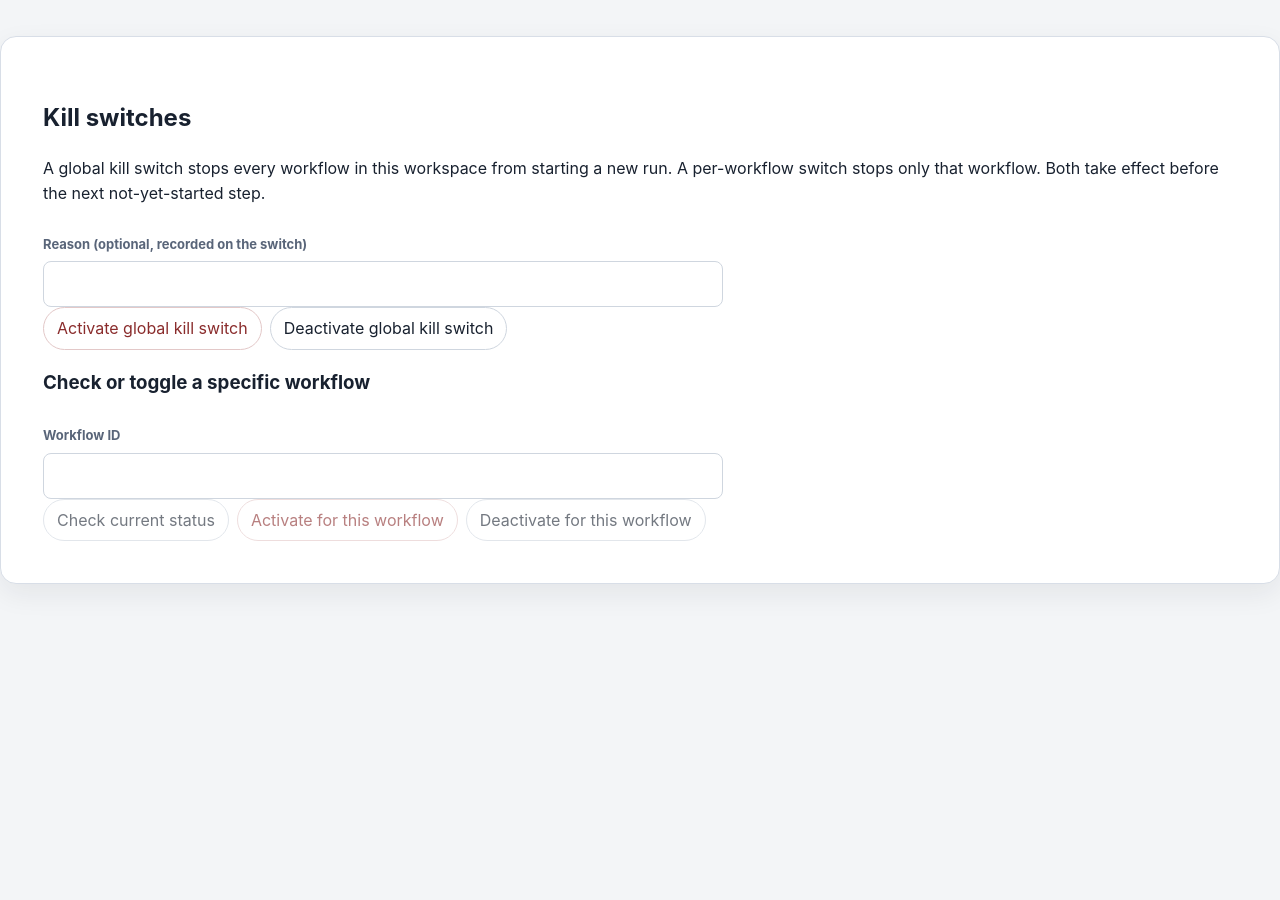
Test: KillSwitchPanel › maps a kill-switch lookup 500 to a readable sentence, not a raw backend message
This screenshot has width=1280, height=900.
Type "weekly-digest" into the field named "Workflow ID to check". click: (383,476)
box: [43,452,723,499]
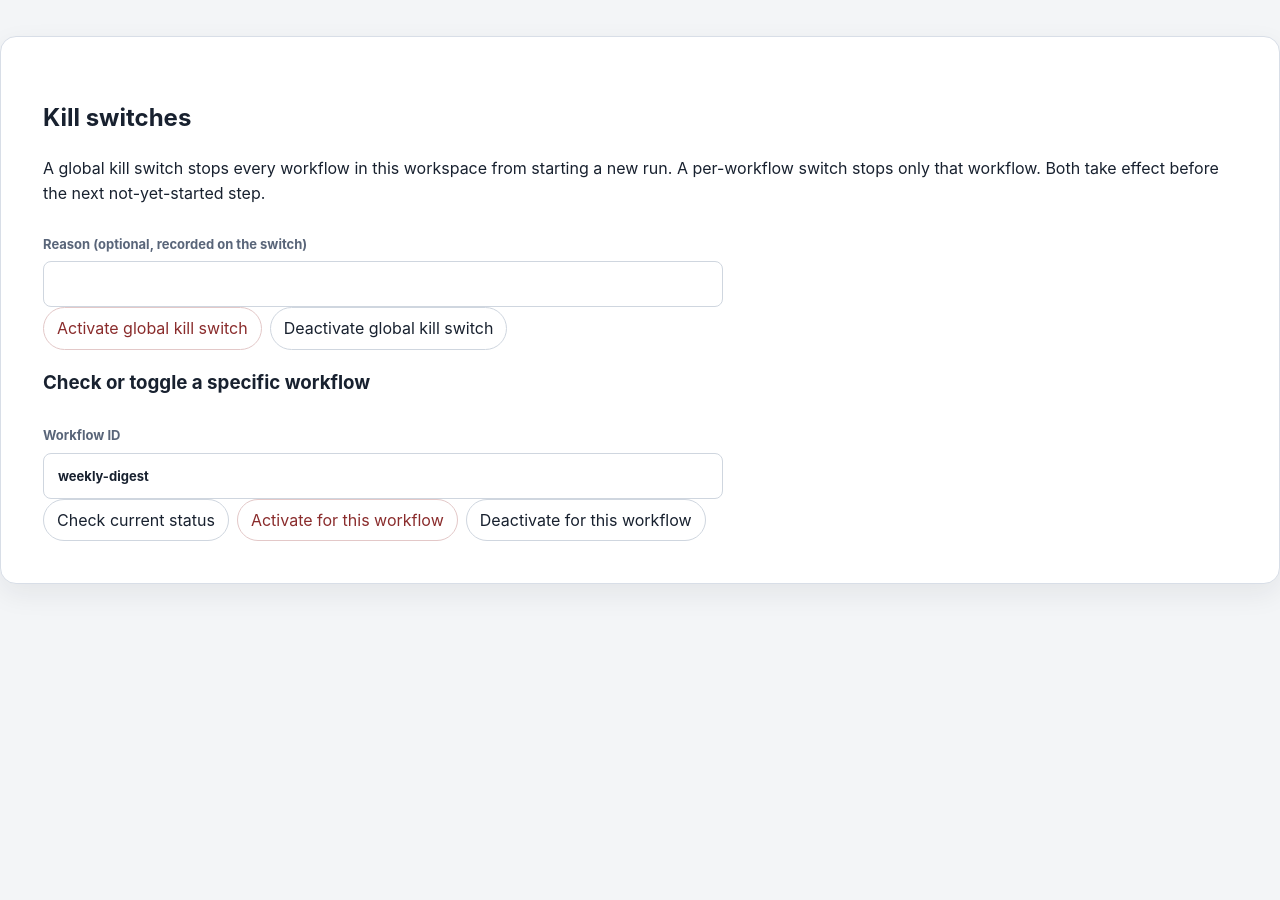
Click the button "Check current status". click: (136,520)
box: [43,499,229,542]
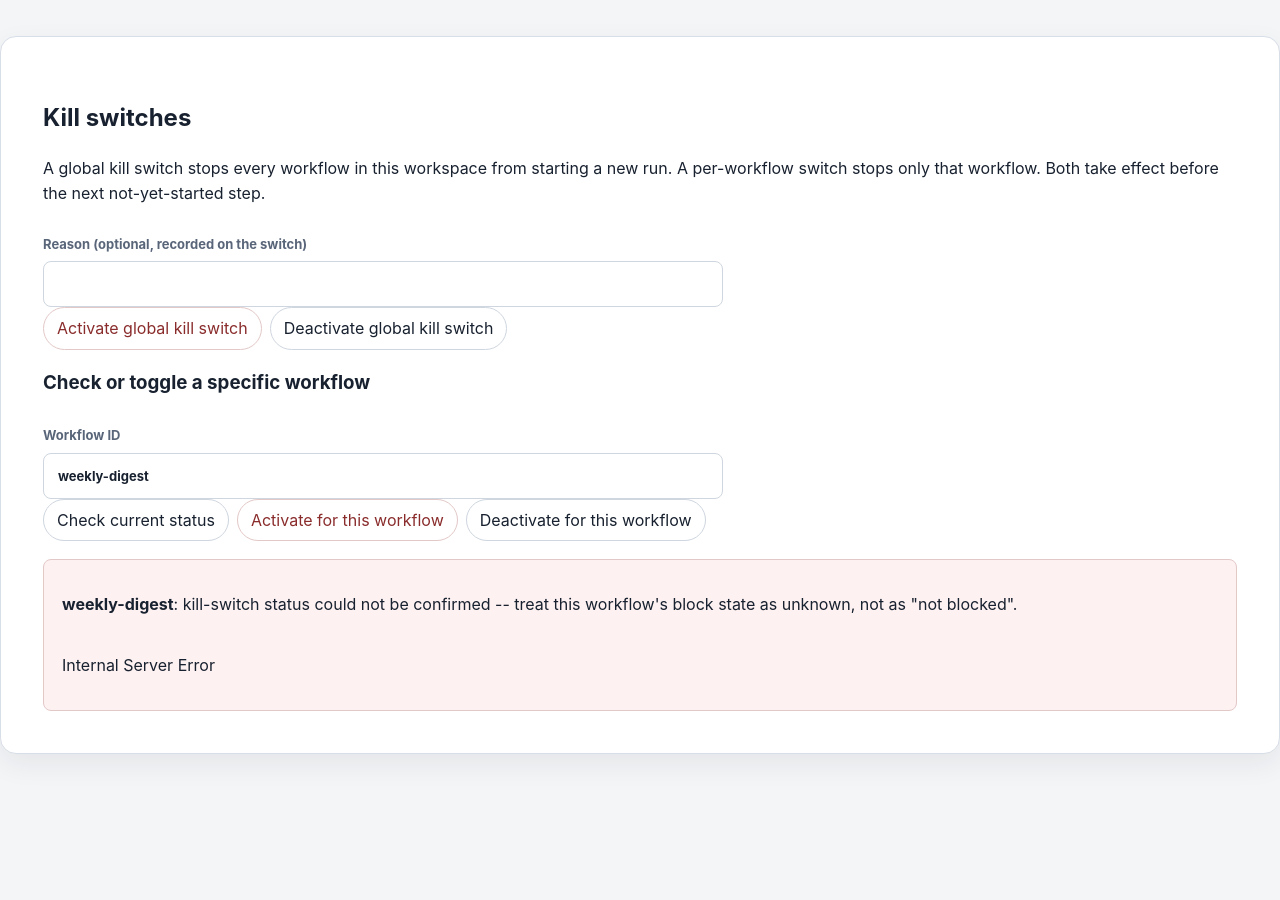
expect the message shows "kill-switch status could not be confirmed": met, box [174,594,1018,614]
